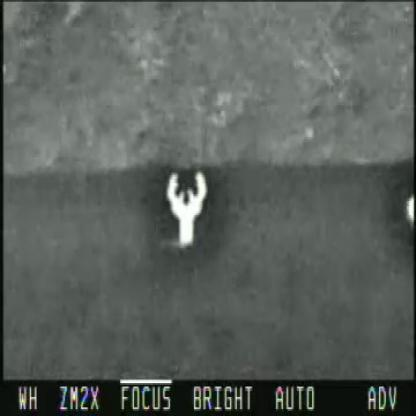rehkitze: (166, 165, 207, 251), (406, 192, 414, 235)
